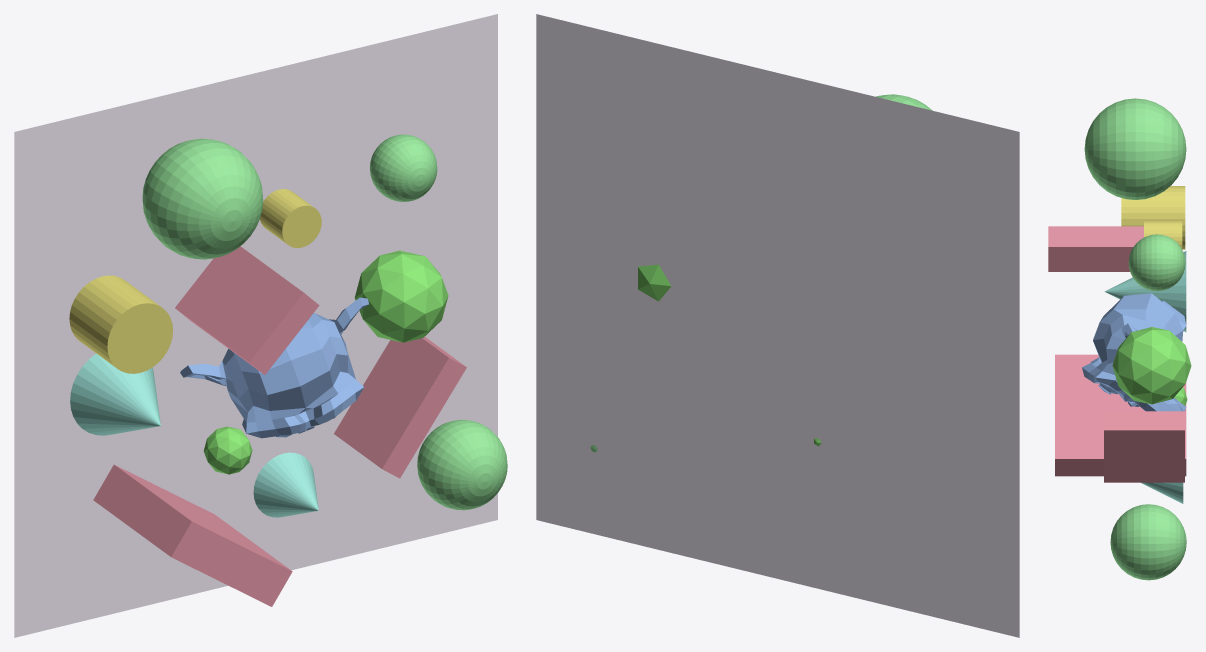
The model's file is simple_scene.gltf.
3 renders of one model, left to right at view 1: azimuth 30°, elevation 25°; view 2: azimuth 150°, elevation 25°; view 3: azimuth 270°, elevation 25°, orthographic. The views are drawn at different scales.
Visible parts, largest first — view 1: Grid, Suzanne, Sphere.001, Cube, Cube.002, Cube.001, Cylinder.001, Sphere, Icosphere.001, Cone, Sphere.002, Cone.001 (+2 smaller); view 2: Grid, Icosphere.001; view 3: Sphere.001, Cube, Cube.002, Suzanne, Icosphere.001, Sphere, Cube.001, Sphere.002, Cylinder.001, Cone, Cylinder, Cone.001.
Boxes of the visible parts, bbox=[...] form: Grid: bbox=[14, 14, 497, 637]; Suzanne: bbox=[180, 297, 368, 438]; Sphere.001: bbox=[142, 138, 263, 259]; Cube: bbox=[93, 464, 292, 606]; Cube.002: bbox=[334, 336, 466, 478]; Cube.001: bbox=[175, 246, 319, 374]; Cylinder.001: bbox=[69, 275, 172, 373]; Sphere: bbox=[417, 419, 507, 510]; Icosphere.001: bbox=[354, 250, 448, 342]; Cone: bbox=[70, 353, 160, 435]; Sphere.002: bbox=[370, 134, 437, 201]; Cone.001: bbox=[253, 452, 318, 517]; Grid: bbox=[536, 14, 1019, 637]; Icosphere.001: bbox=[638, 264, 671, 301]; Sphere.001: bbox=[1084, 98, 1186, 199]; Cube: bbox=[1055, 354, 1186, 476]; Cube.002: bbox=[1104, 411, 1184, 482]; Suzanne: bbox=[1082, 293, 1186, 411]; Icosphere.001: bbox=[1112, 327, 1191, 404]; Sphere: bbox=[1110, 504, 1186, 580]; Cube.001: bbox=[1048, 226, 1143, 271]; Sphere.002: bbox=[1128, 234, 1185, 291]; Cylinder.001: bbox=[1121, 186, 1185, 249]; Cone: bbox=[1104, 251, 1186, 331]; Cylinder: bbox=[1144, 220, 1182, 249]; Cone.001: bbox=[1141, 482, 1183, 503].
Bounding box in the file's own units: 7.5 × 7.5 × 2.28.
